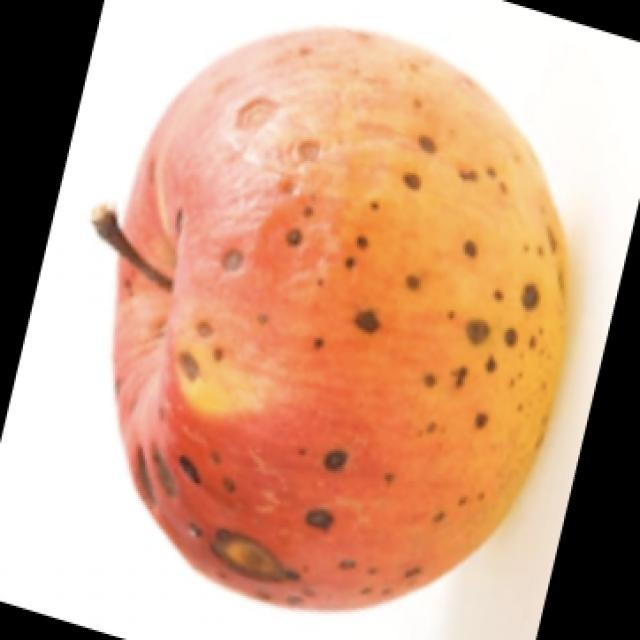Rotten: (135, 41, 575, 602)
